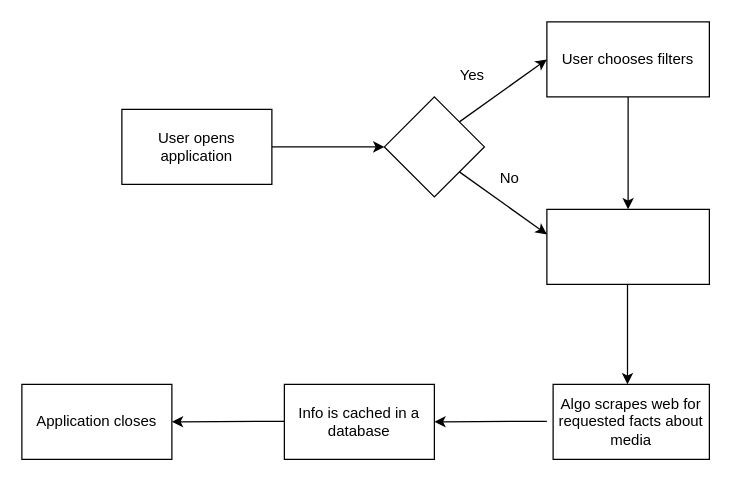
Image size: 731x481. Some labels were removed from this diagram. The centre of each missing label's shape, as x and y in pixels:
"Application processes request" goes at point 627,246.
"Filters?" goes at point 433,146.
